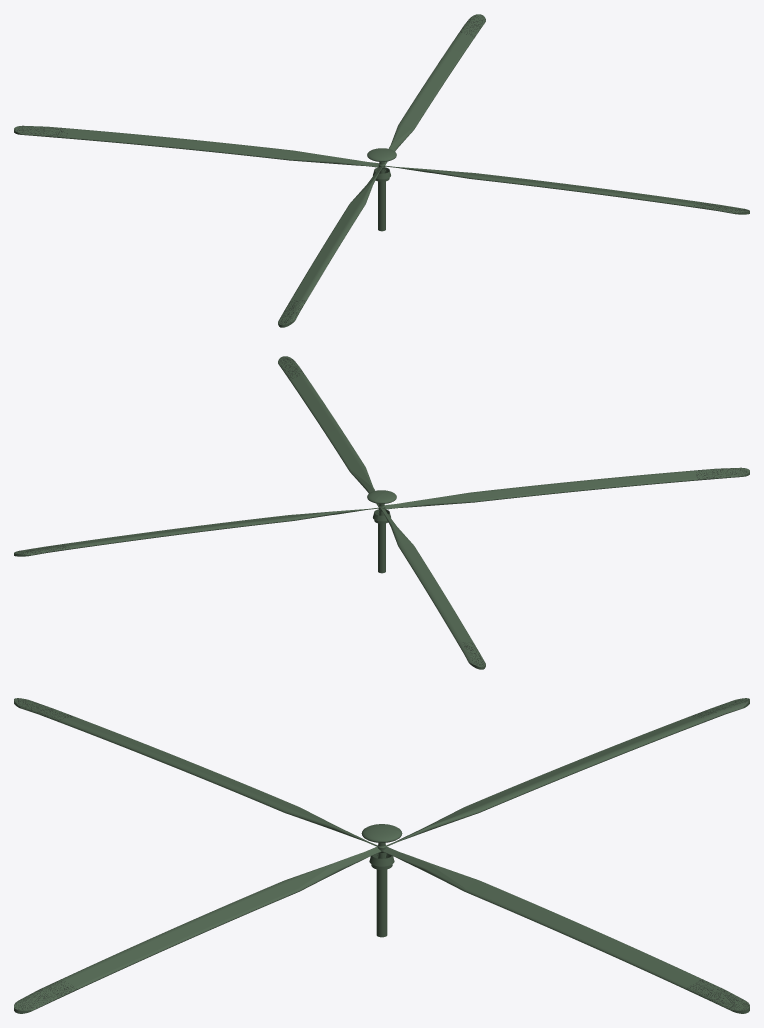
Rendered from Canh quat1.dae.
3 views of the same model, one above another, from view 1: azimuth 30°, elevation 25°; view 2: azimuth 150°, elevation 25°; view 3: azimuth 270°, elevation 25° (orthographic). The views are drawn at different scales.
Parts seen in each view (by area): view 1: group_0 (×4); view 2: group_0 (×5); view 3: group_0 (×8).
Boxes of the visible parts, <box> form: group_0 (×4): <box>66,33,696,301</box>; group_0 (×5): <box>67,375,749,643</box>; group_0 (×8): <box>14,698,749,1010</box>.
Bounding box in the file's own units: 237 × 236 × 37.28.
